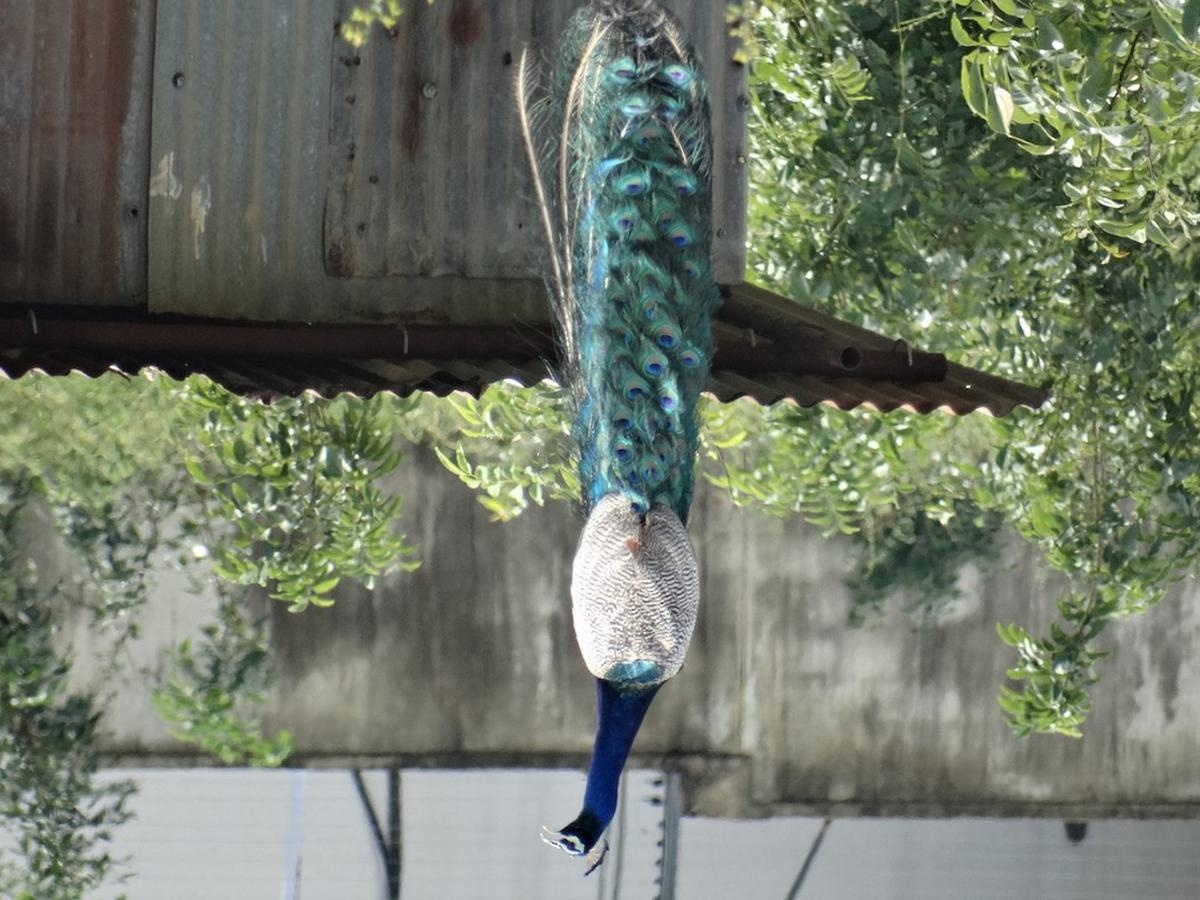peacock: (504, 87, 721, 864)
